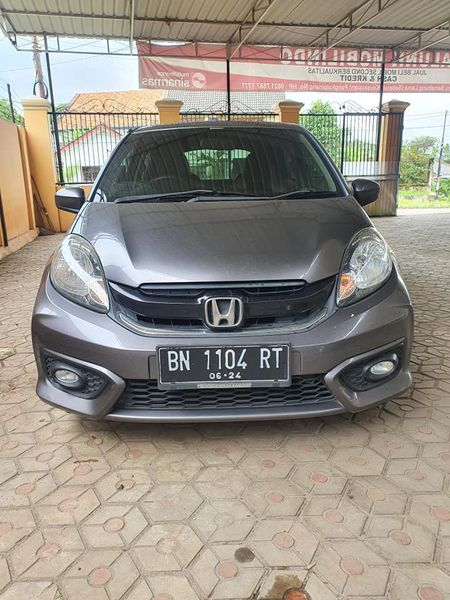plate: (154, 341, 298, 394)
